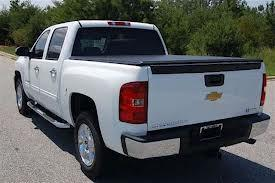Car: (11, 15, 275, 183)
